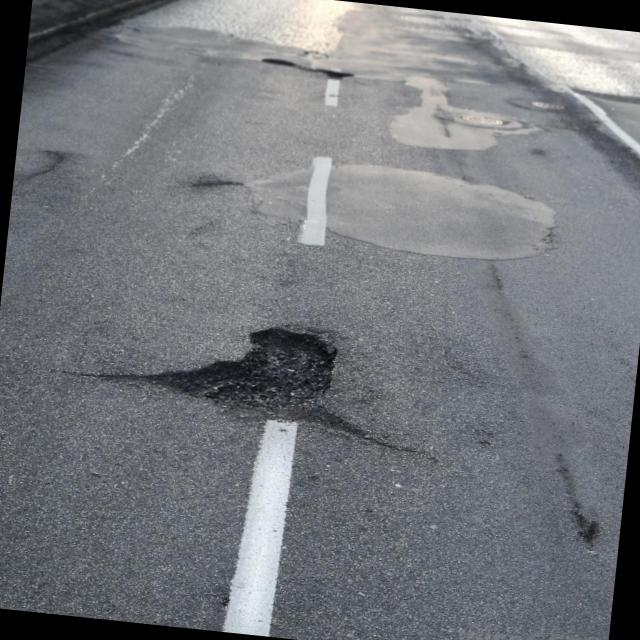Potholes: (101, 290, 447, 492), (262, 47, 397, 108)
